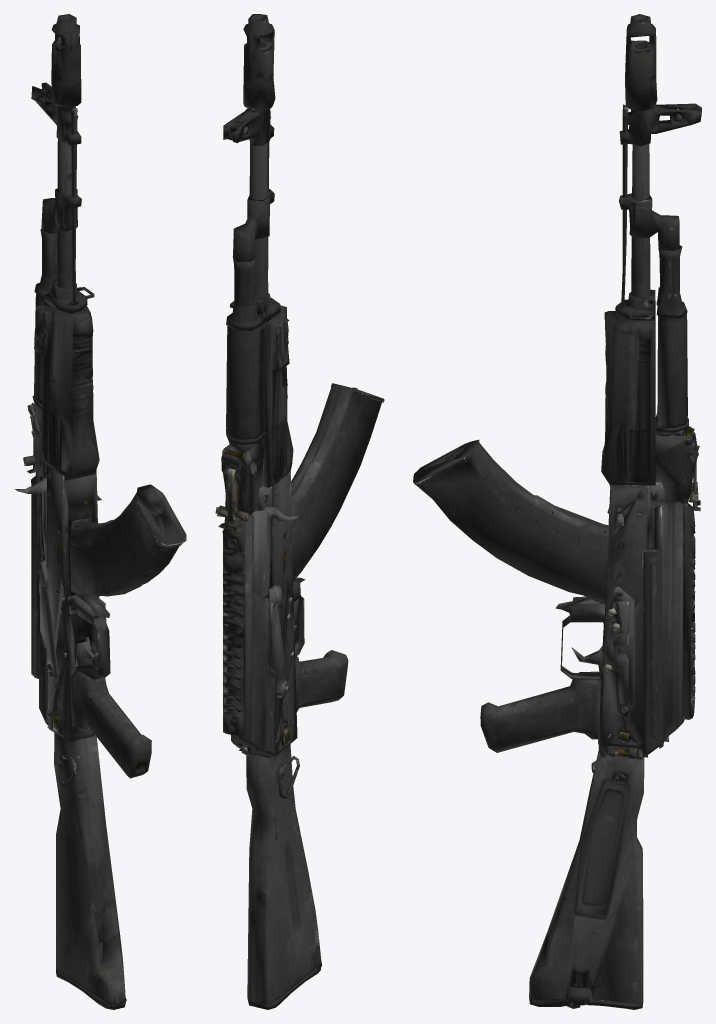
3 views of the same model, side by side, from view 1: azimuth 30°, elevation 25°; view 2: azimuth 150°, elevation 25°; view 3: azimuth 270°, elevation 25° (orthographic). The views are drawn at different scales.
Visible parts, largest first — view 1: AK103.001; view 2: AK103.001; view 3: AK103.001.
Boxes of the visible parts, bbox=[...] form: AK103.001: bbox=[15, 14, 186, 1009]; AK103.001: bbox=[215, 14, 384, 1009]; AK103.001: bbox=[413, 14, 701, 1009].
Size of the model in its own units: 0.0437 by 0.5859 by 0.1553.
